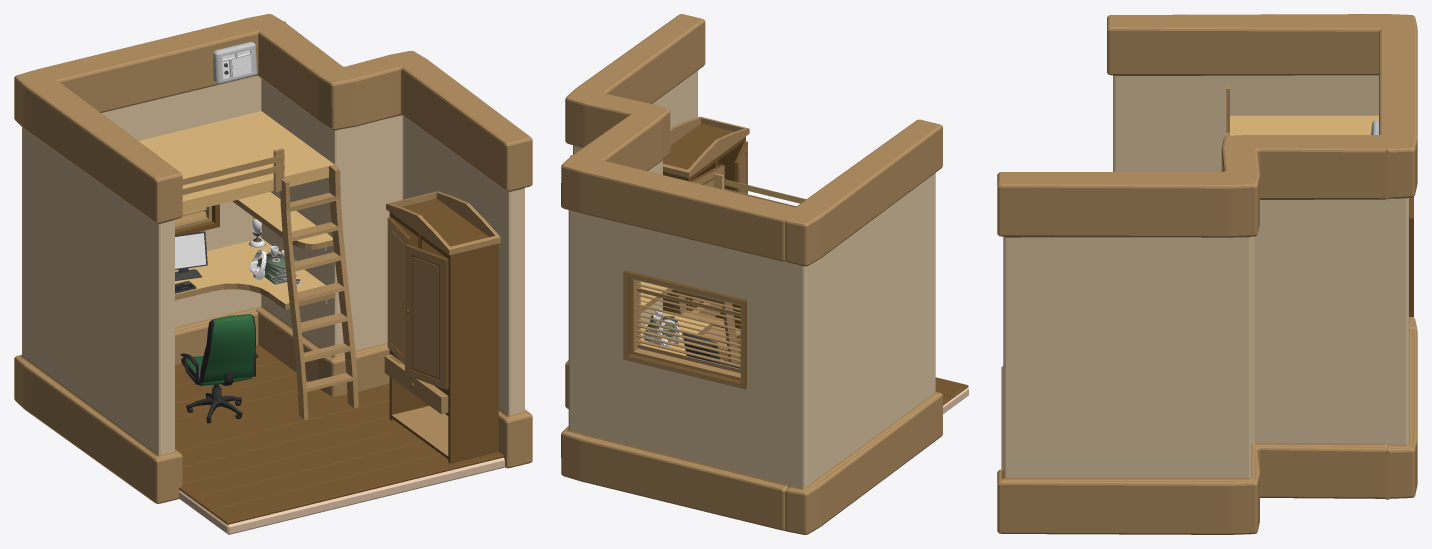
The model's file is workspace_compressed.glb.
3 views of the same model, side by side, from view 1: azimuth 30°, elevation 25°; view 2: azimuth 150°, elevation 25°; view 3: azimuth 270°, elevation 25° (orthographic). The views are drawn at different scales.
Parts seen in each view (by area): view 1: Walls, Planks, cAIBNET.002, Bed Frame, Laddder, chair_f, Table, Floor, Table Top, Aircon, Monitor, wINDOW (+1 smaller); view 2: Walls, wINDOW, cAIBNET.002, Laddder, Bed Frame, Table, Planks, Monitor; view 3: Walls, Bed Frame, wINDOW.
Part boxes in pixels (bbox=[...]): Walls: bbox=[14, 14, 532, 503]; Planks: bbox=[175, 344, 503, 524]; cAIBNET.002: bbox=[384, 191, 500, 463]; Bed Frame: bbox=[139, 111, 334, 212]; Laddder: bbox=[280, 164, 358, 420]; chair_f: bbox=[180, 314, 258, 423]; Table: bbox=[175, 238, 335, 309]; Floor: bbox=[179, 457, 504, 534]; Table Top: bbox=[232, 192, 333, 249]; Aircon: bbox=[213, 42, 256, 84]; Monitor: bbox=[175, 231, 207, 280]; wINDOW: bbox=[175, 204, 219, 235]; Walls: bbox=[561, 14, 942, 534]; wINDOW: bbox=[623, 270, 746, 389]; cAIBNET.002: bbox=[663, 116, 749, 340]; Laddder: bbox=[672, 289, 739, 363]; Bed Frame: bbox=[714, 173, 806, 207]; Table: bbox=[640, 312, 723, 360]; Planks: bbox=[719, 336, 968, 405]; Monitor: bbox=[682, 333, 720, 363]; Walls: bbox=[997, 14, 1417, 534]; Bed Frame: bbox=[1225, 84, 1378, 136]; wINDOW: bbox=[1409, 197, 1413, 316].
Size of the model in its own units: 2.87 by 2.7 by 2.94.
